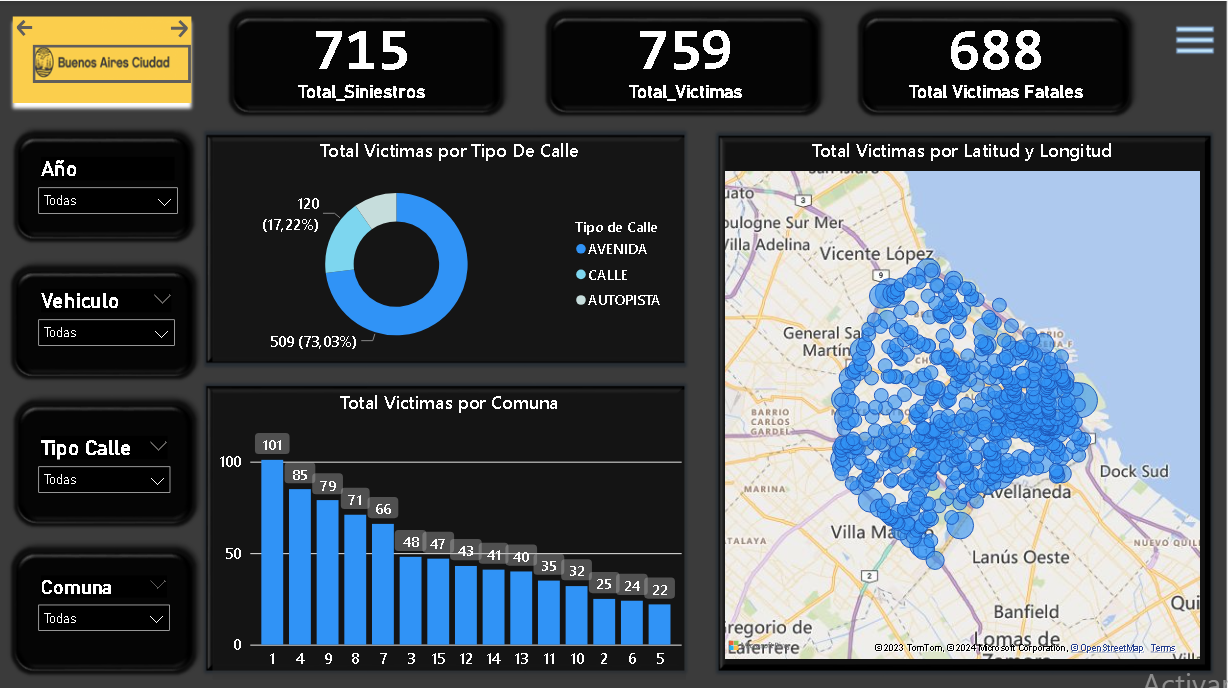

Layout of this report page (visuals, bound fields, positions):
{"tool":"powerbi","page":{"name":"Ubicacion","canvas":[1280,720],"ordinal":4},"visuals":[{"type":"map","title":"Total Victimas por Latitud y Longitud","fields":{"Y":["Siniestros Viales.Latitud"],"X":["Siniestros Viales.Longitud"],"Size":["Medidas.Total_Victimas"]},"box":[751.7,141.7,505,548.3],"z":0},{"type":"clusteredColumnChart","title":"Total Victimas por Comuna","fields":{"Category":["Siniestros Viales.Comuna"],"Y":["Medidas.Total_Victimas"]},"box":[223.3,405,493.3,301.7],"z":1000},{"type":"donutChart","title":"Total Victimas por Tipo De Calle","fields":{"Category":["Siniestros Viales.Tipo_De_Calle"],"Y":["Medidas.Total_Victimas"]},"box":[223.3,141.7,493.3,233.3],"z":2000},{"type":"slicer","fields":{"Values":["Siniestros Viales.Año_Hechos"]},"box":[18.3,141.7,193.3,108.3],"z":3000},{"type":"card","fields":{"Values":["Medidas.Total_Siniestros"]},"box":[240,0,274.3,120],"z":4000},{"type":"slicer","fields":{"Values":["Siniestros Viales.Edad"]},"box":[18.3,280,190,111.7],"z":5000},{"type":"card","fields":{"Values":["Medidas.Total_Victimas"]},"box":[578.6,0,274.3,120],"z":6000},{"type":"card","fields":{"Values":["Medidas.Total_Victimas_Fatales"]},"box":[901.4,0,275.7,120],"z":7000},{"type":"slicer","fields":{"Values":["Siniestros Viales.Participantes"]},"box":[18.3,578.3,185,111.7],"z":8000},{"type":"slicer","fields":{"Values":["Siniestros Viales.Victima"]},"box":[18.3,433.3,186.7,115],"z":9000}]}

Visuals, with their boxes on the page's 1280x720 design canvas (x1, y1, x2, y2). These are canvas units, not pixel positions in the 1228x688 screenshot, which may show the page scaled, cropped or inside an application window:
"Total Victimas por Latitud y Longitud" map: 752, 142, 1257, 690
"Total Victimas por Comuna" clusteredColumnChart: 223, 405, 717, 707
"Total Victimas por Tipo De Calle" donutChart: 223, 142, 717, 375
slicer - Siniestros Viales.Año_Hechos: 18, 142, 212, 250
card - Medidas.Total_Siniestros: 240, 0, 514, 120
slicer - Siniestros Viales.Edad: 18, 280, 208, 392
card - Medidas.Total_Victimas: 579, 0, 853, 120
card - Medidas.Total_Victimas_Fatales: 901, 0, 1177, 120
slicer - Siniestros Viales.Participantes: 18, 578, 203, 690
slicer - Siniestros Viales.Victima: 18, 433, 205, 548
